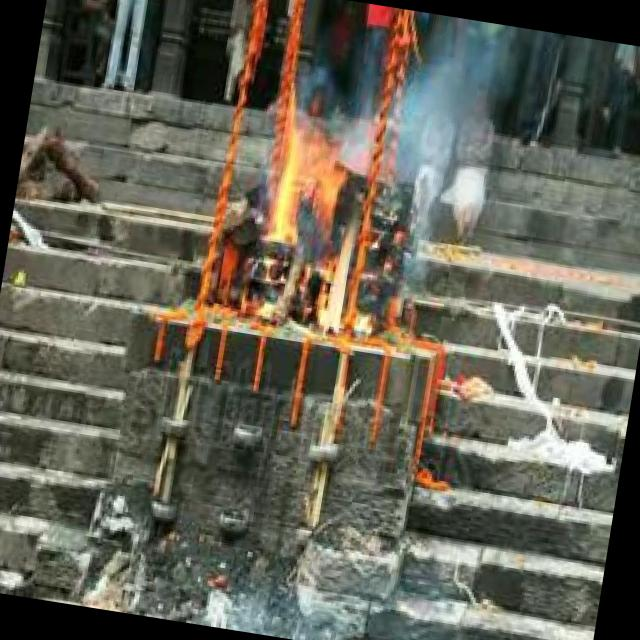Fire: (245, 94, 378, 340)
